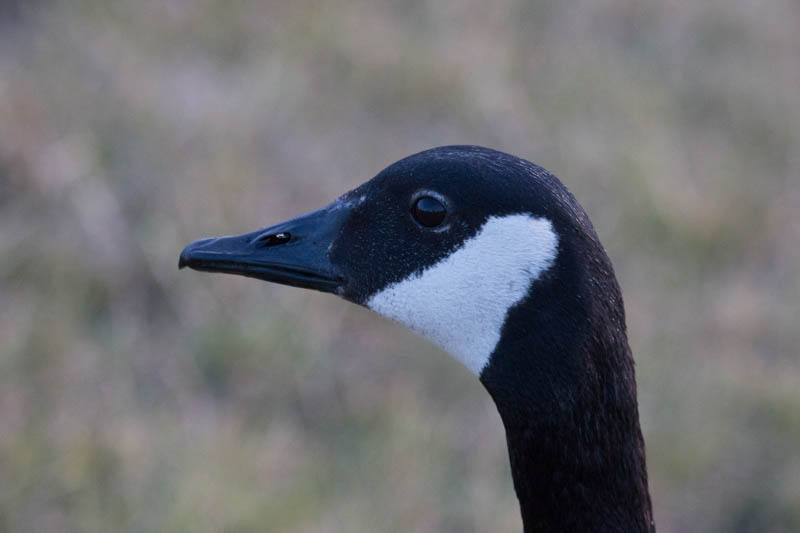goose-head: (177, 145, 635, 384)
